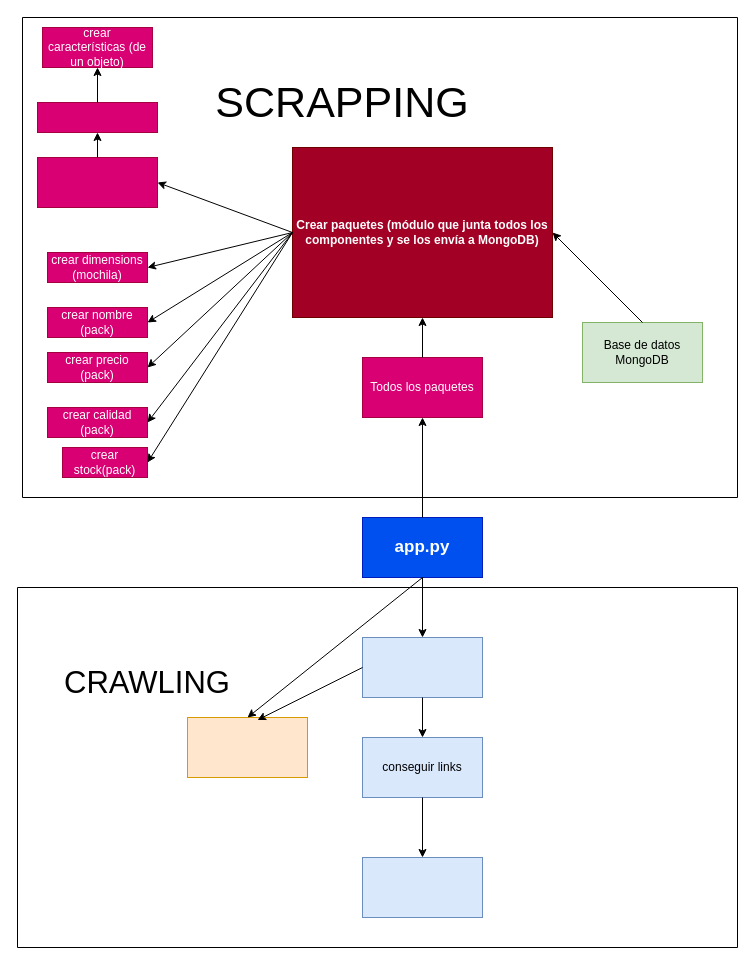
The diagram is 755 pixels wide and 965 high, and some of its shapes have lost their labels. The shapes that lost their labels are listed below. From the top down, each one's box as (x1, y1, x2, y2) in pixels, then its label:
(36, 102, 158, 132): crear objeto
(36, 156, 158, 208): crear contenidos (objetos de la mochila)
(362, 636, 482, 698): crawl_web
(186, 716, 308, 778): Convertir string
(362, 856, 482, 918): Localizar links
